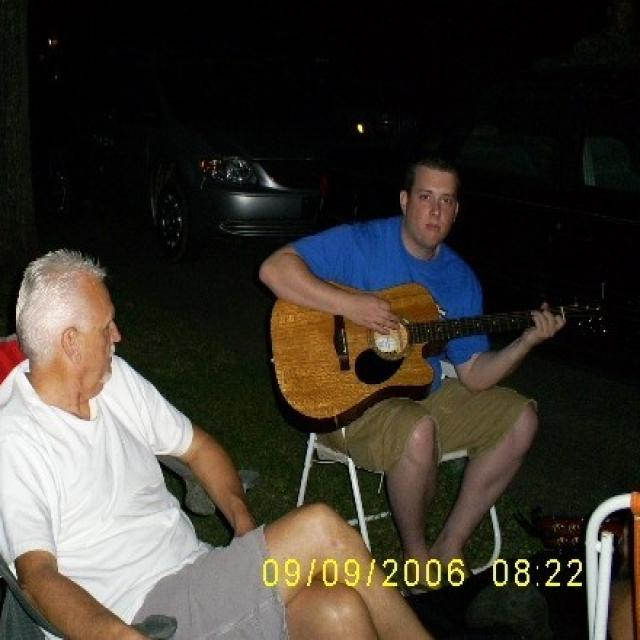guitar: (272, 280, 610, 431)
